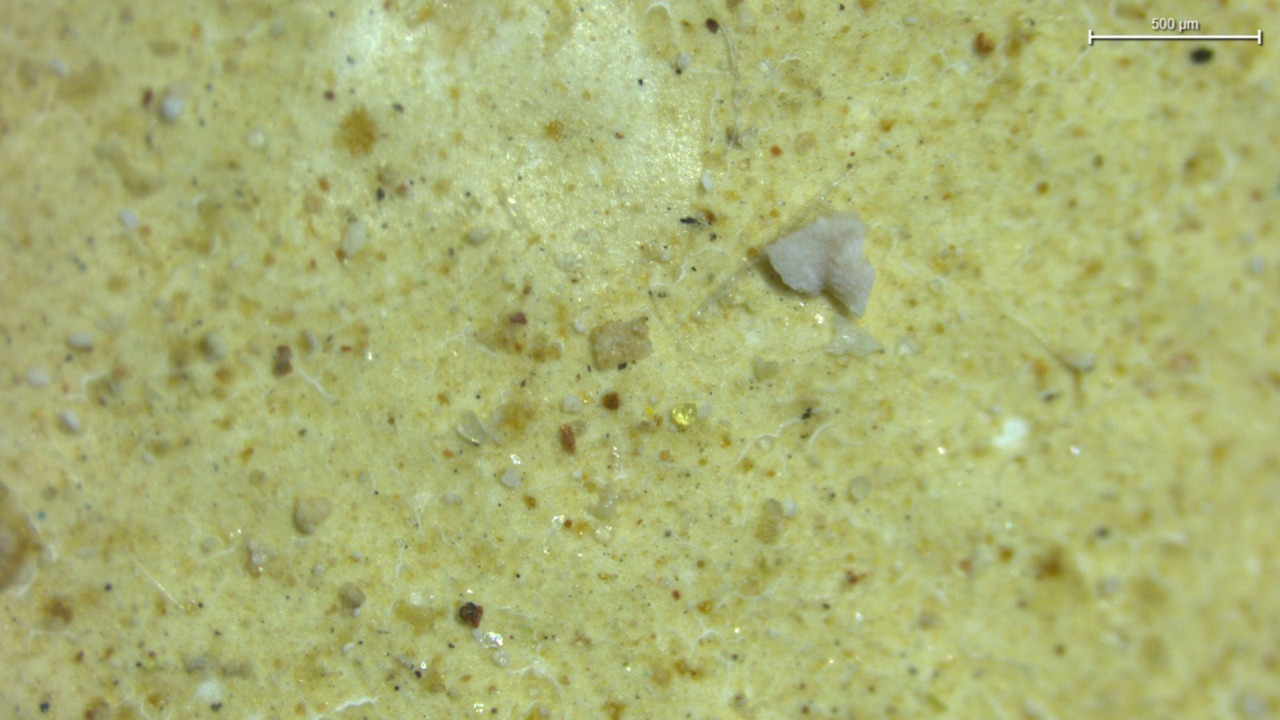microplastic_fragment: (766, 212, 875, 317)
